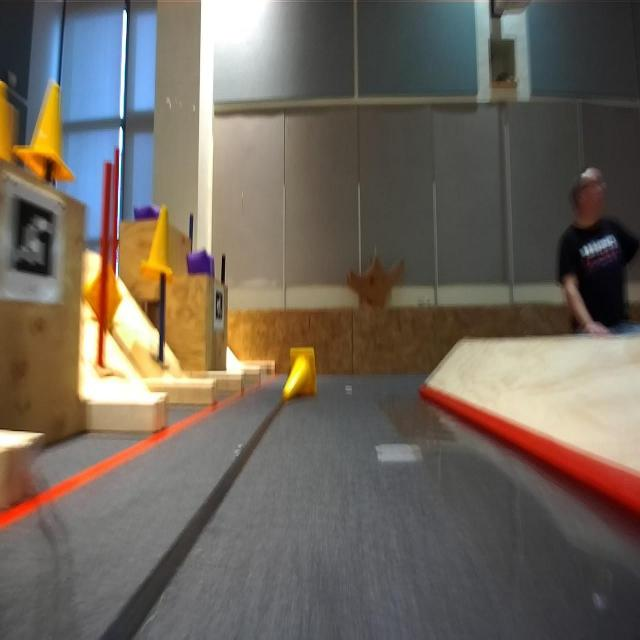frc_cone: (14, 74, 78, 192), (143, 204, 177, 281), (283, 346, 321, 402), (0, 82, 14, 170)
frc_cube: (186, 248, 216, 276), (134, 203, 160, 220)
